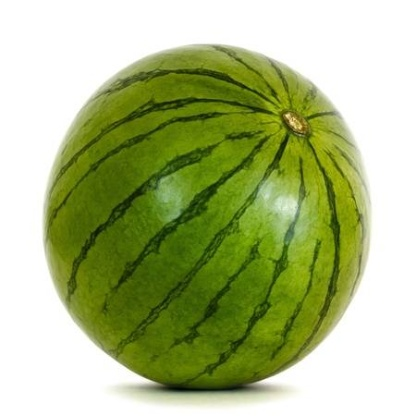duahau: (38, 37, 378, 382)
